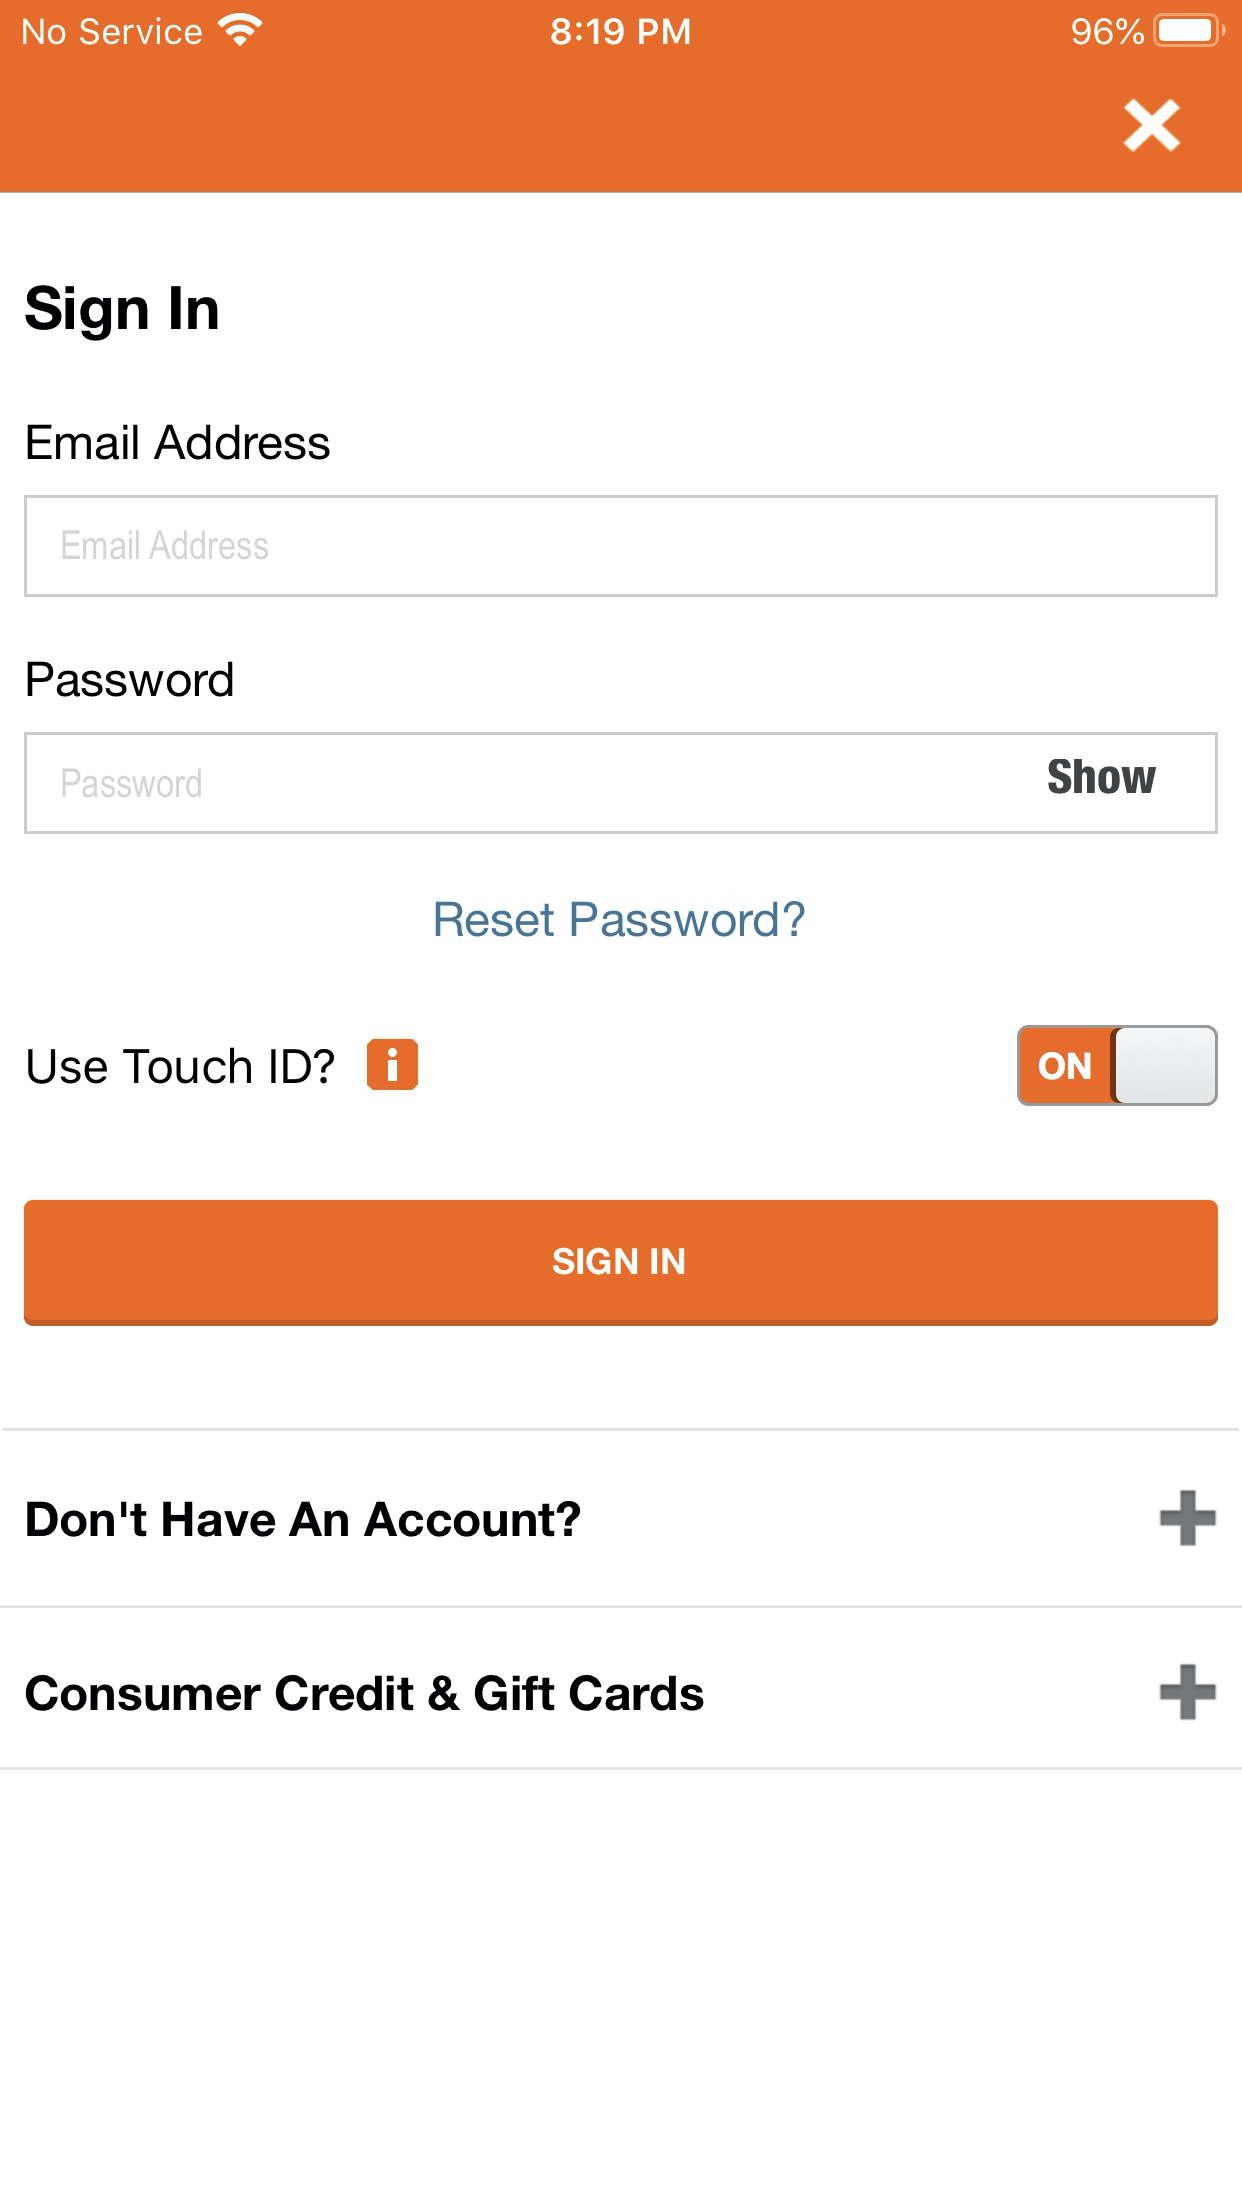EditText: (24, 494, 1218, 597), (24, 732, 1218, 834)
Icon: (1159, 1664, 1218, 1721), (1159, 1489, 1216, 1545), (1122, 99, 1181, 153), (367, 1039, 419, 1090)
Switch: (1016, 1025, 1218, 1106)
Text: (24, 1674, 704, 1711), (27, 1500, 581, 1538), (435, 901, 805, 937), (27, 1046, 335, 1084), (24, 285, 218, 343), (27, 425, 331, 459), (27, 661, 234, 698), (62, 529, 268, 560), (62, 767, 202, 798), (1048, 760, 1156, 795)
TextButton: (24, 1200, 1218, 1325)
UpperTaskBar: (2, 2, 1242, 49)
